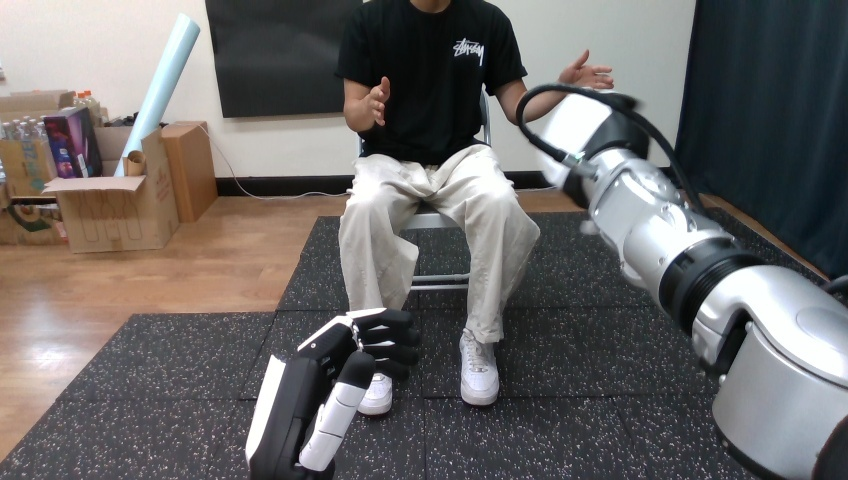left robot hand: (517, 84, 847, 478), (246, 308, 419, 478)
